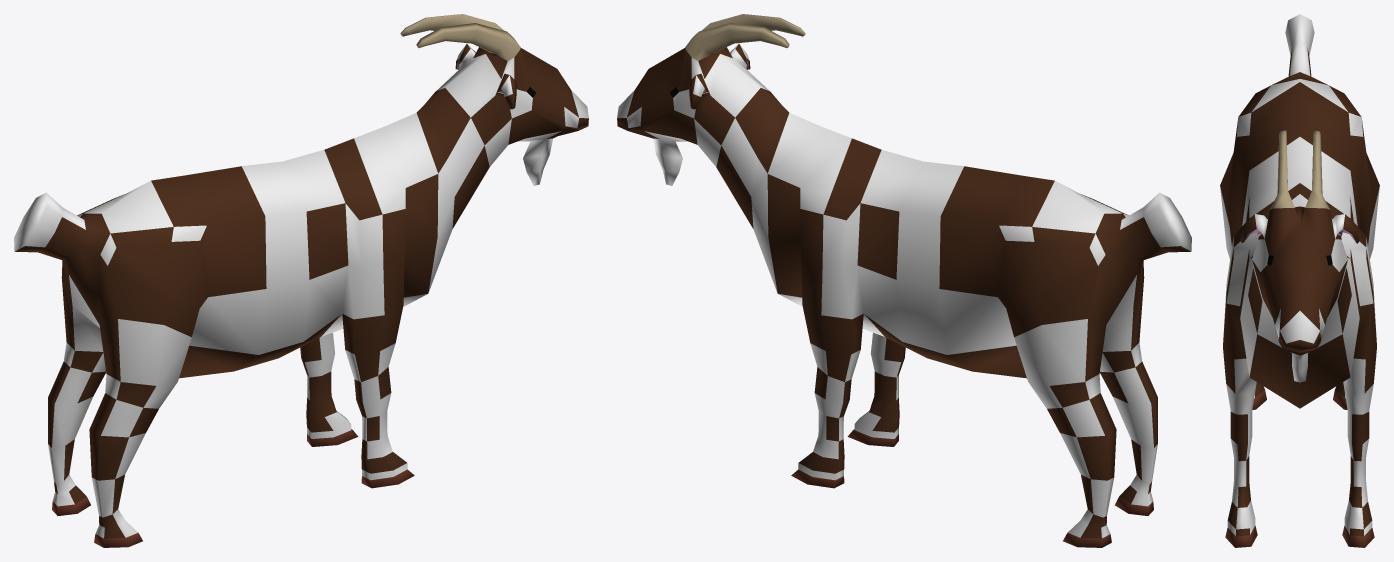
The model's file is goat.glb.
3 renders of one model, left to right at view 1: azimuth 30°, elevation 25°; view 2: azimuth 150°, elevation 25°; view 3: azimuth 270°, elevation 25°, orthographic. The views are drawn at different scales.
Visible parts, largest first — view 1: Cube.049; view 2: Cube.049; view 3: Cube.049.
Boxes of the visible parts, bbox=[...] form: Cube.049: bbox=[14, 14, 588, 547]; Cube.049: bbox=[617, 14, 1191, 547]; Cube.049: bbox=[1220, 14, 1379, 547].
Bounding box in the file's own units: 0.7754 × 0.5422 × 0.1782.
